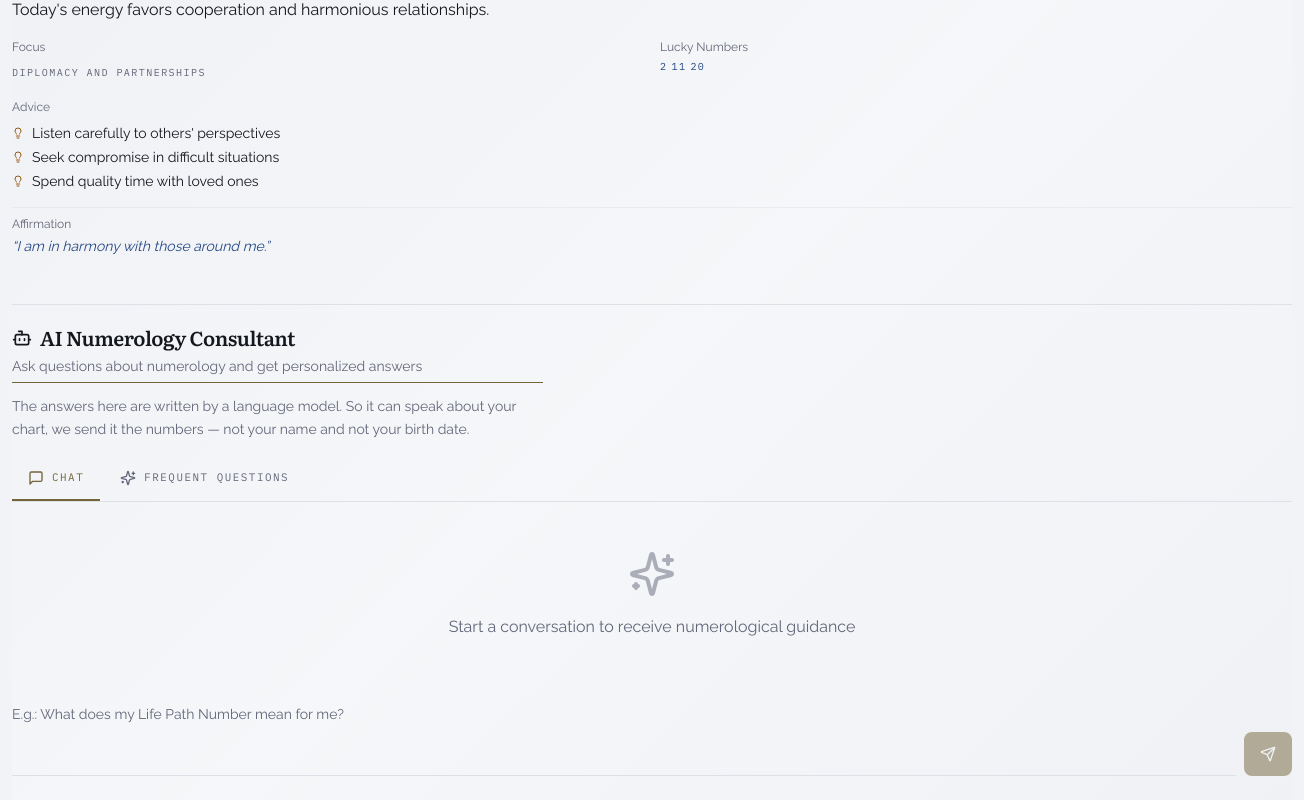
Test: when the server answers 503 › puts no invented answer on screen
The image size is (1304, 800).
(page scrolled)
In the text box with placeholder "E.g.: What does my Life Path Number mean for me?": {"x": 624, "y": 736} x1=12 y1=696 x2=1236 y2=776, type "What does my chart say about this year?"
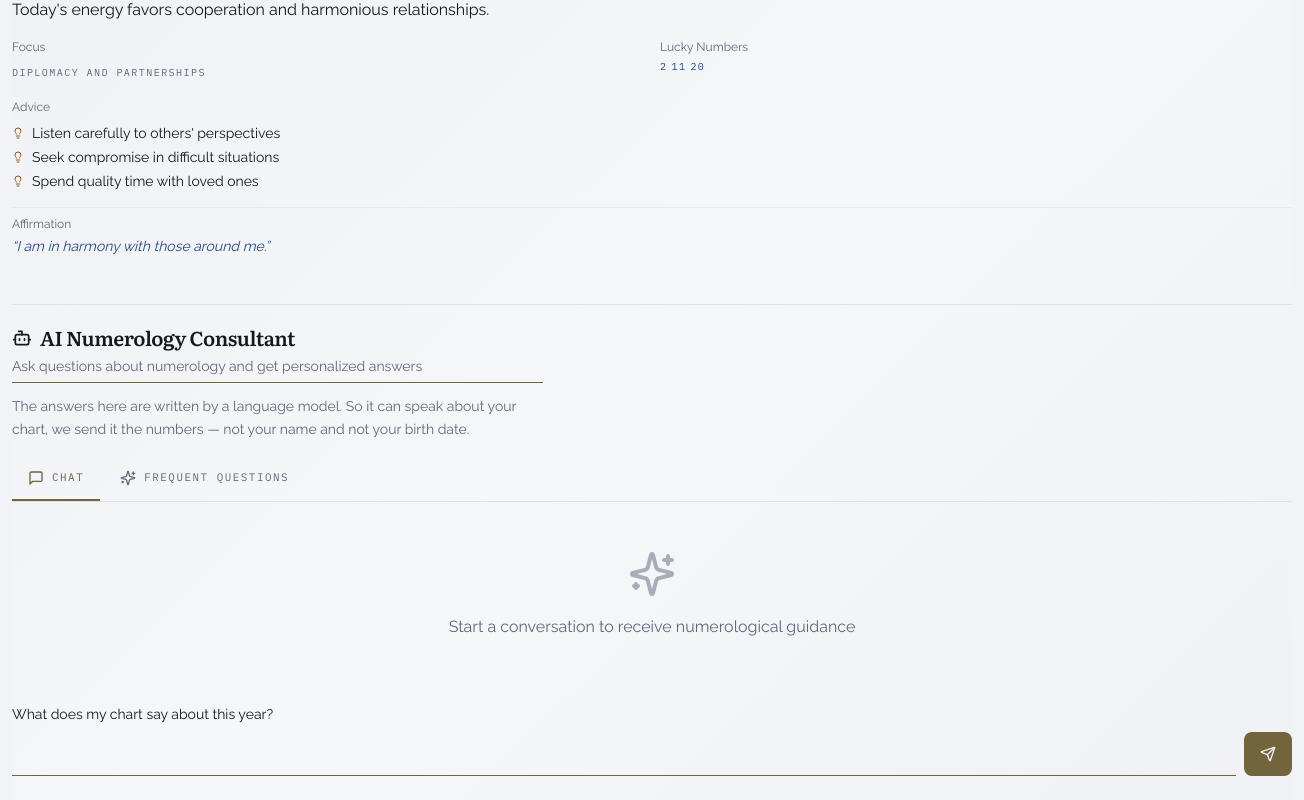
Press Enter
(page scrolled)
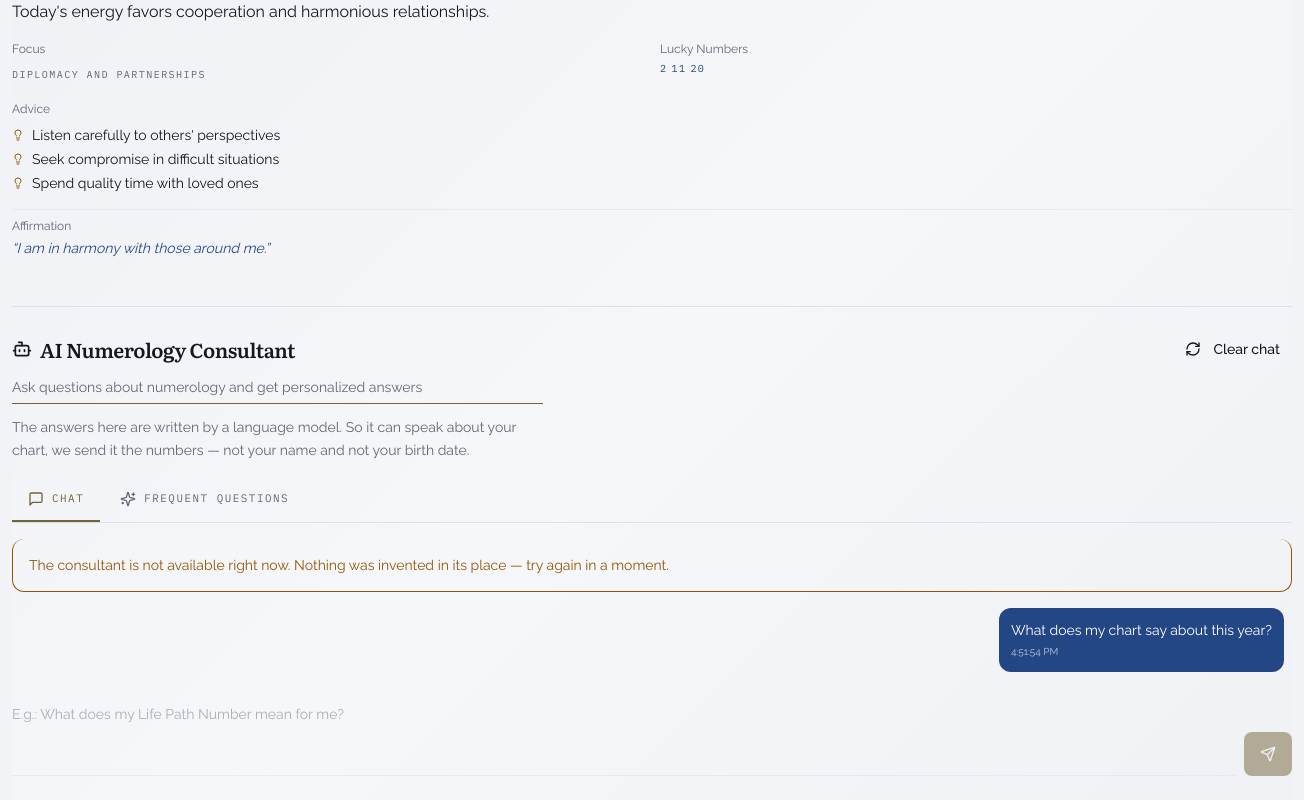
Expected: the text "What does my chart say about this year?" is shown, x1=1011 y1=620 x2=1272 y2=640
